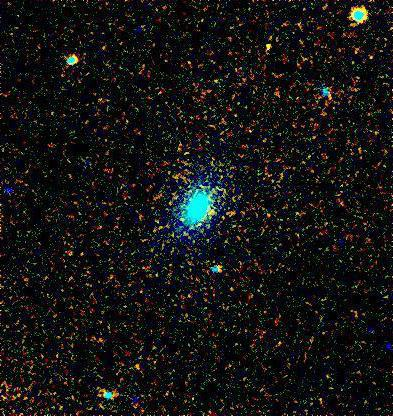star: (254, 32, 284, 62)
